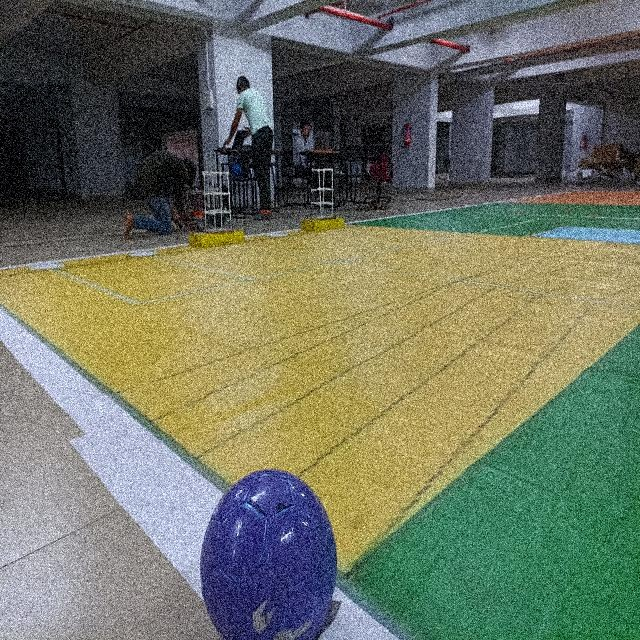blue_ball: (234, 162, 242, 178)
purple_ball: (203, 471, 337, 640)
silo: (201, 170, 233, 232), (310, 167, 335, 222)
